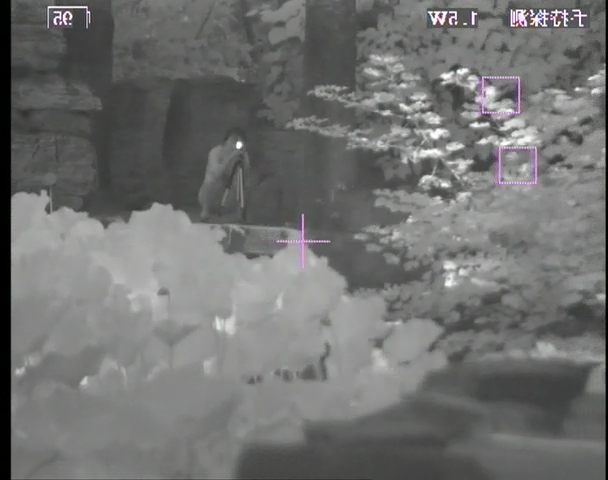my: (234, 140, 244, 150)
